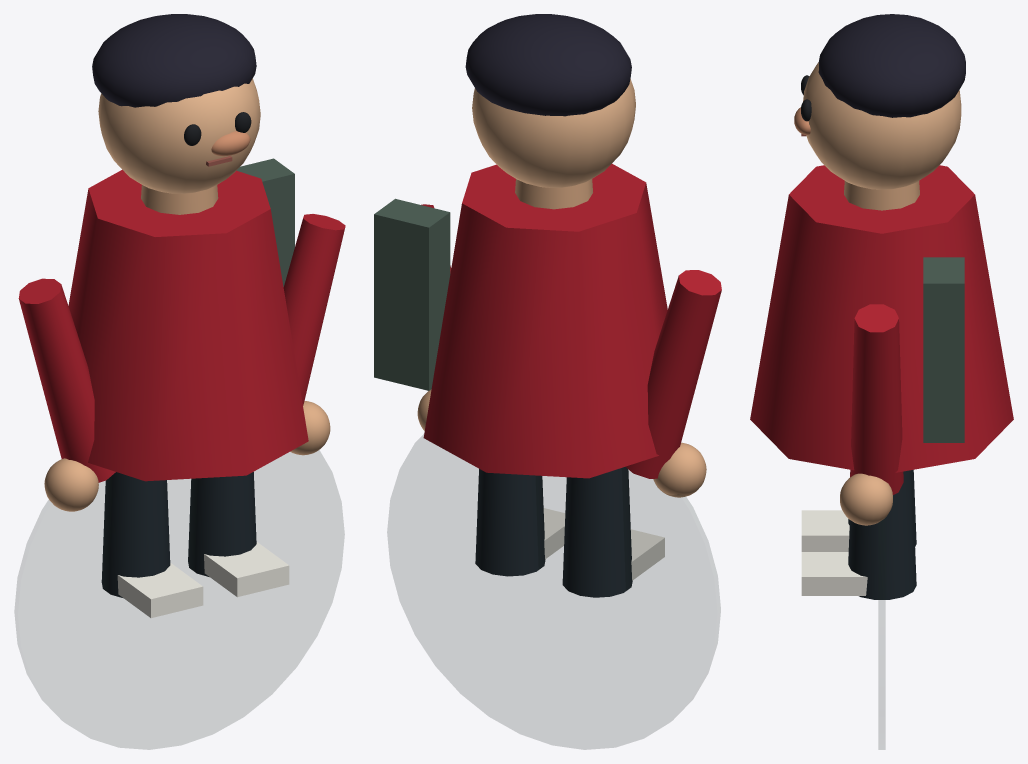
File: avatar_pharmacist_red.glb
3 views of the same model, side by side, from view 1: azimuth 30°, elevation 25°; view 2: azimuth 150°, elevation 25°; view 3: azimuth 270°, elevation 25° (orthographic). The views are drawn at different scales.
Parts seen in each view (by area): view 1: torso, shadow, hair, head, arm_-0.255, leg_-0.095, arm_0.255, leg_0.095, shoe_-0.095, shoe_0.095, shoulder_bag, hand_-0.255 (+3 smaller); view 2: shadow, torso, hair, shoulder_bag, head, arm_-0.255, leg_-0.095, leg_0.095, hand_-0.255, neck, shoe_-0.095, shoe_0.095; view 3: torso, hair, head, arm_0.255, shoulder_bag, leg_0.095, shoe_0.095, hand_0.255, shoe_-0.095, neck, shadow.
Part boxes in pixels (x1,y1,x2,y2): torso: [68, 169, 308, 481]; shadow: [15, 450, 344, 749]; hair: [92, 14, 256, 107]; head: [98, 78, 260, 193]; arm_-0.255: [18, 278, 115, 482]; leg_-0.095: [101, 472, 170, 597]; arm_0.255: [283, 214, 345, 405]; leg_0.095: [188, 472, 256, 576]; shoe_-0.095: [117, 563, 203, 618]; shoe_0.095: [204, 542, 289, 597]; shoulder_bag: [236, 158, 294, 286]; hand_-0.255: [44, 458, 98, 511]; shadow: [387, 434, 720, 749]; torso: [423, 163, 667, 478]; hair: [465, 14, 631, 116]; shoulder_bag: [374, 198, 450, 390]; head: [472, 78, 635, 187]; arm_-0.255: [625, 270, 721, 478]; leg_-0.095: [562, 467, 632, 597]; leg_0.095: [475, 469, 545, 576]; hand_-0.255: [653, 442, 706, 497]; neck: [515, 179, 592, 209]; shoe_-0.095: [630, 529, 664, 580]; shoe_0.095: [543, 508, 565, 559]; torso: [750, 165, 1013, 472]; hair: [818, 14, 965, 117]; head: [803, 62, 961, 189]; arm_0.255: [850, 304, 903, 494]; shoulder_bag: [923, 257, 964, 442]; leg_0.095: [848, 470, 916, 599]; shoe_0.095: [801, 552, 867, 595]; hand_0.255: [840, 473, 892, 525]; shoe_-0.095: [801, 510, 849, 551]; neck: [844, 181, 919, 210]; shadow: [879, 518, 884, 749].
Bounding box in the file's own units: 0.72 × 1.51 × 0.51.
